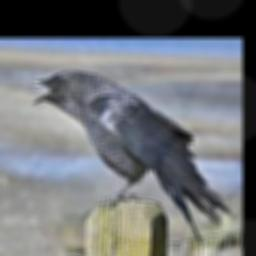Crow: (29, 69, 233, 245)
